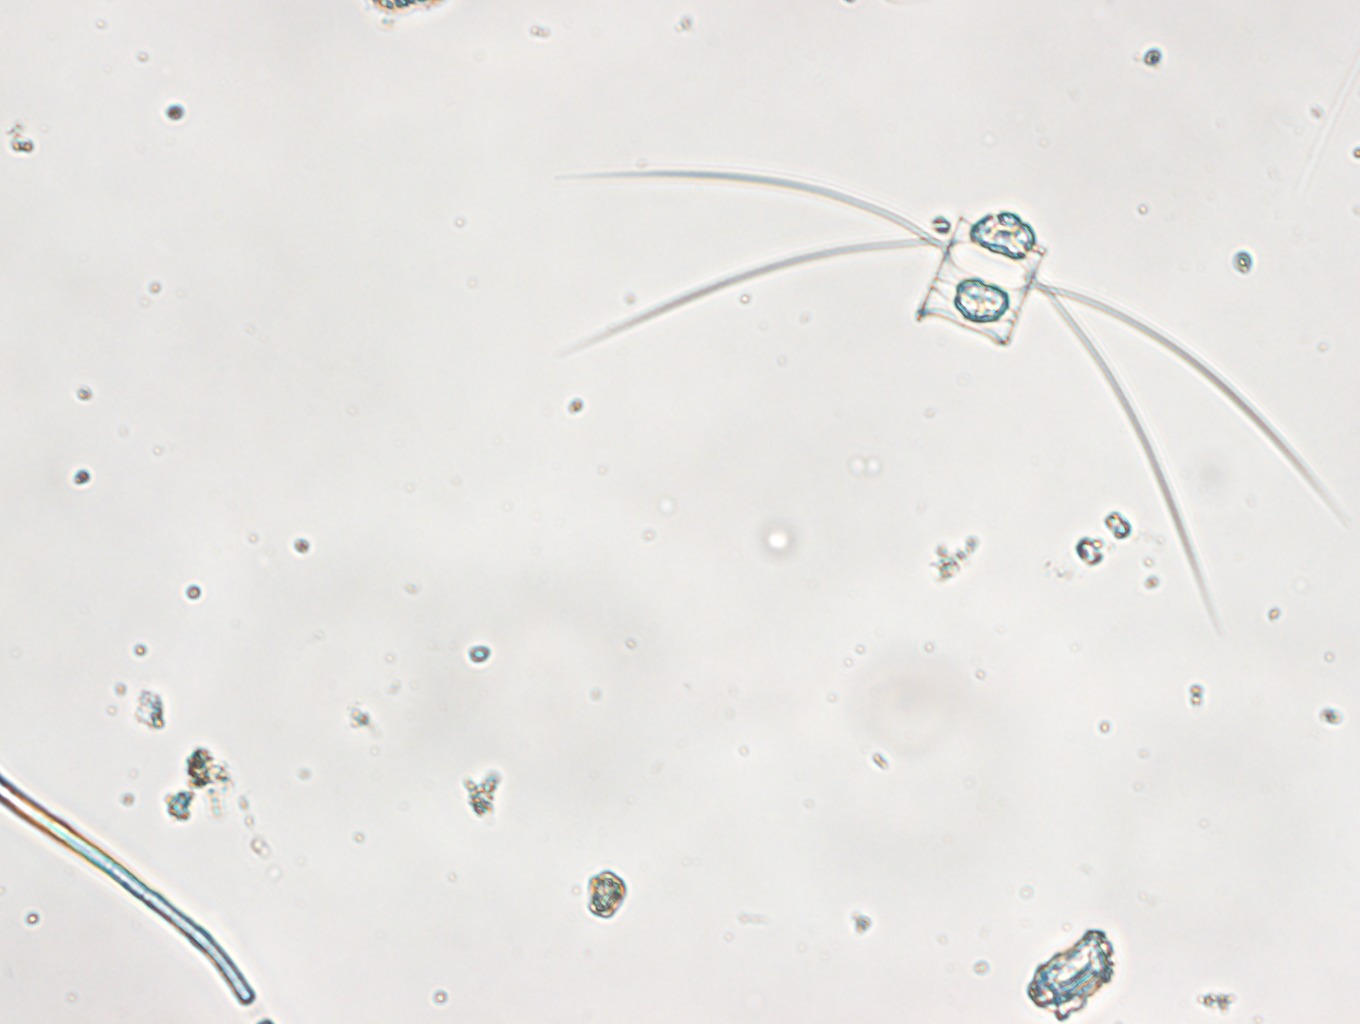chaetoceros: (552, 169, 1342, 620)
